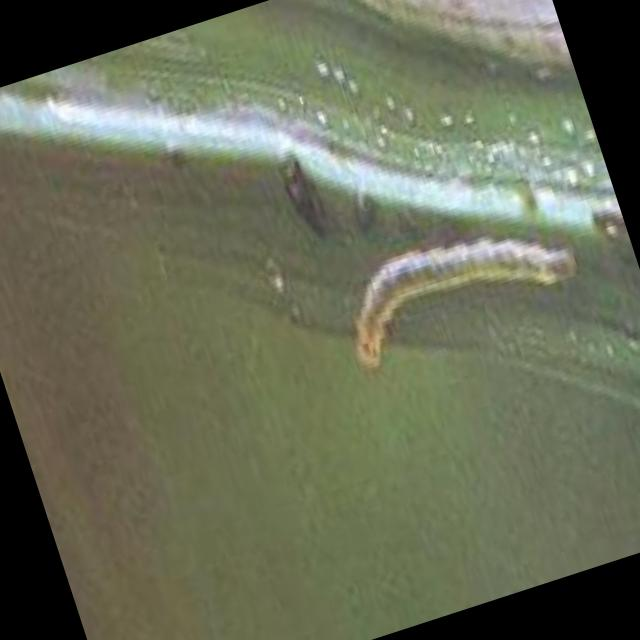leaf-folder: (314, 185, 610, 398)
